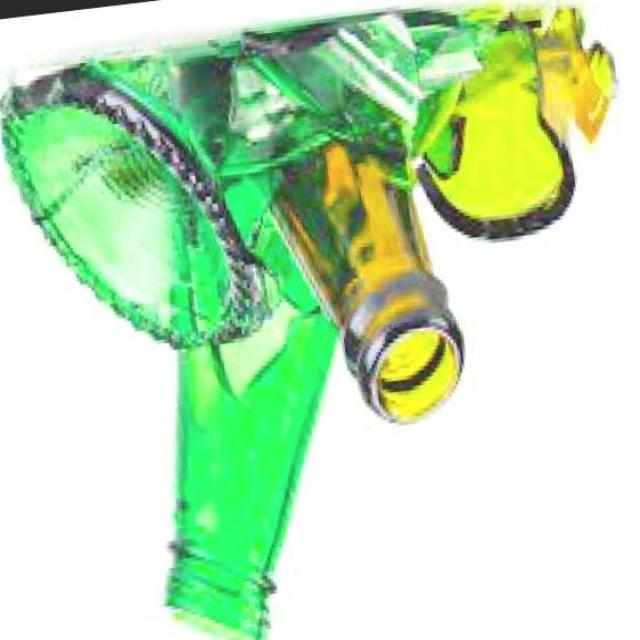Dry: (13, 50, 238, 262), (152, 254, 273, 634), (273, 188, 460, 428), (440, 3, 615, 247), (211, 24, 433, 196)
